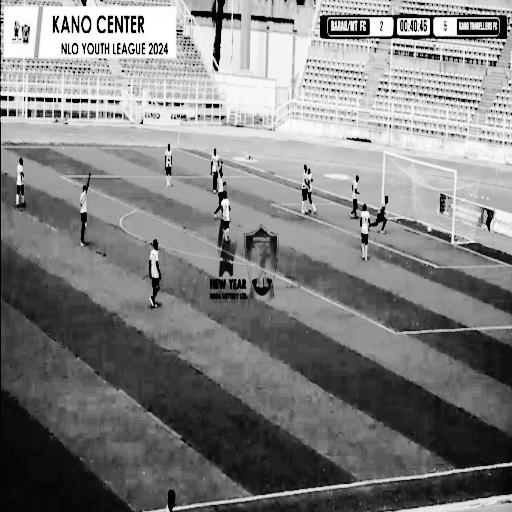ball: (426, 221, 433, 237)
keeper2: (366, 194, 395, 244)
team1: (294, 160, 321, 220), (12, 150, 32, 224), (219, 188, 234, 244), (358, 201, 371, 265), (164, 141, 177, 197)
team2: (146, 234, 169, 312), (77, 168, 93, 257), (209, 137, 226, 203), (346, 171, 360, 225)
